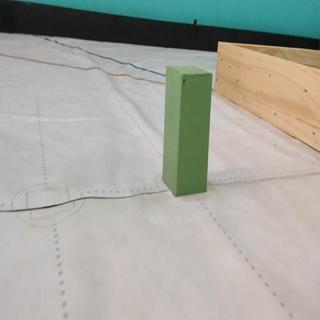greenbox: (161, 62, 215, 199)
